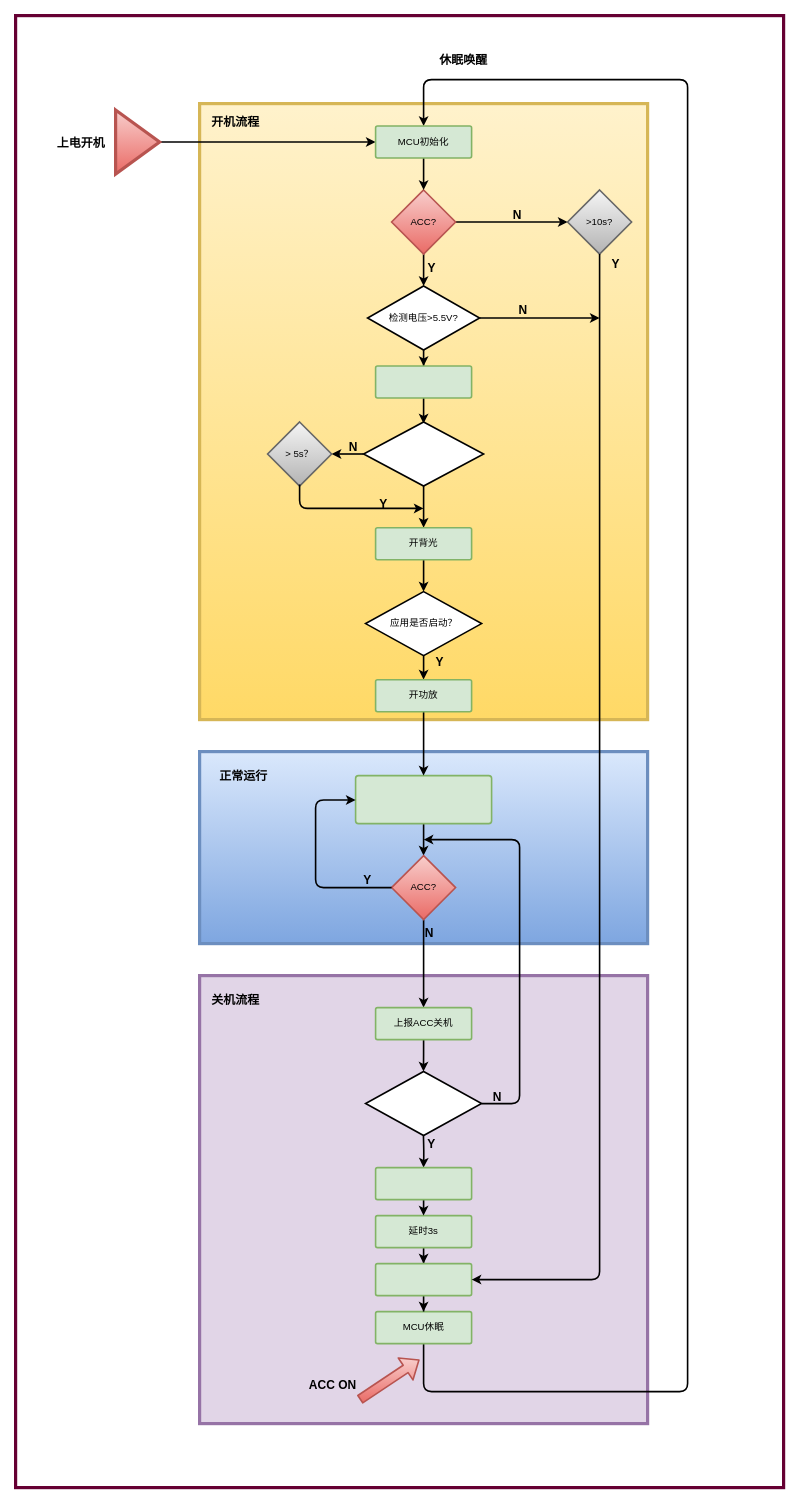
This 798x1502 diagram has some shape labels left out. The box of each missing label's shape, as (x1, y1, x2, y2) in pixels:
ACC OFF >10s?: (364, 1070, 482, 1136)
CPU上电: (374, 365, 472, 398)
CPU拉高唤醒引脚？: (362, 421, 484, 486)
关闭所有电压: (374, 1262, 472, 1296)
发送关机协议: (374, 1166, 472, 1200)
采集电压、检测信号、控制外设: (354, 774, 492, 824)
